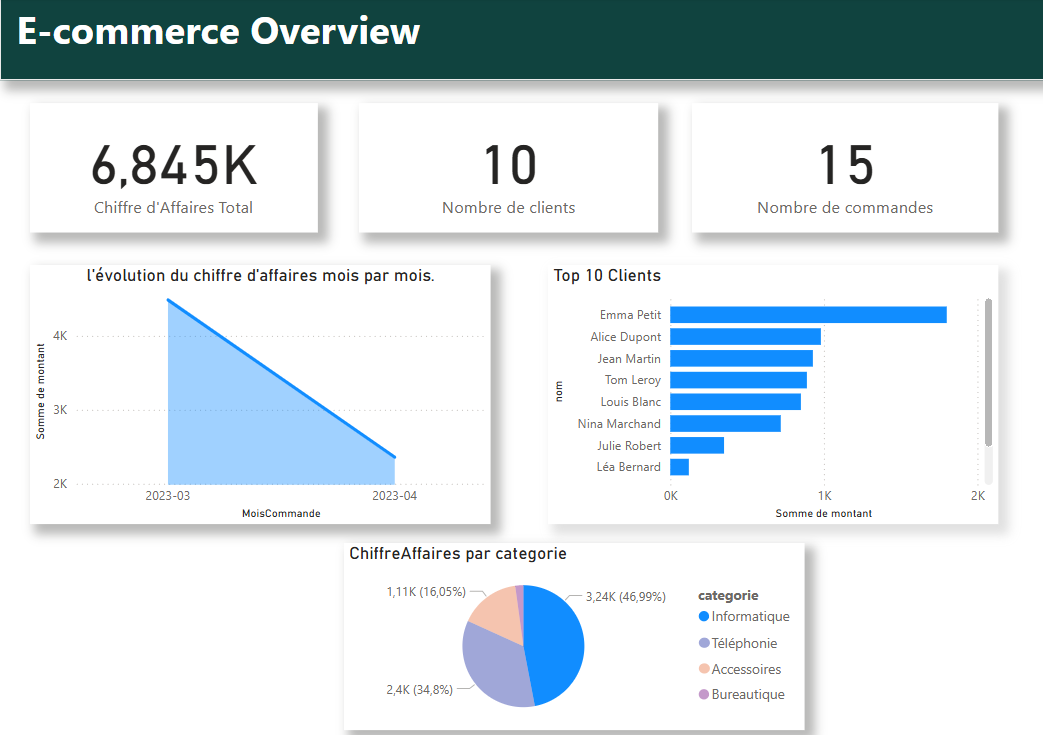

Layout of this report page (visuals, bound fields, positions):
{"tool":"powerbi","page":{"name":"Page 1","canvas":[1280,720],"ordinal":0},"visuals":[{"type":"card","fields":{"Values":["Sum(paiements.montant)"]},"box":[29.2,102.1,359.9,126.4],"z":0},{"type":"card","fields":{"Values":["Count(clients.id_client)"]},"box":[496,102.1,352.1,126.4],"z":1000},{"type":"card","fields":{"Values":["Count(commandes.id_commande)"]},"box":[909.4,102.1,340.4,126.4],"z":2000},{"type":"lineChart","title":"l''évolution du chiffre d''affaires mois par mois.","fields":{"Category":["commandes.MoisCommande"],"Y":["Sum(paiements.montant)"]},"box":[29.2,259.7,448.4,251.9],"z":3000},{"type":"clusteredBarChart","title":"Top 10 Clients","fields":{"Category":["clients.nom"],"Y":["Sum(paiements.montant)"]},"box":[539.8,259.7,437.7,251.9],"z":4000},{"type":"pieChart","fields":{"Category":["produits.categorie"],"Y":["details_commandes.ChiffreAffaires"]},"box":[29.2,534,448.4,181.9],"z":5000},{"type":"textbox","box":[0,0,1280,79.8],"z":6000}]}

Visuals, with their boxes on the page's 1280x720 design canvas (x1, y1, x2, y2). These are canvas units, not pixel positions in the 1043x735 screenshot, which may show the page scaled, cropped or inside an application window:
card - Sum(paiements.montant): <region>29, 102, 389, 228</region>
card - Count(clients.id_client): <region>496, 102, 848, 228</region>
card - Count(commandes.id_commande): <region>909, 102, 1250, 228</region>
"l''évolution du chiffre d''affaires mois par mois." lineChart: <region>29, 260, 478, 512</region>
"Top 10 Clients" clusteredBarChart: <region>540, 260, 978, 512</region>
pieChart - produits.categorie x details_commandes.ChiffreAffaires: <region>29, 534, 478, 716</region>
textbox: <region>0, 0, 1280, 80</region>
